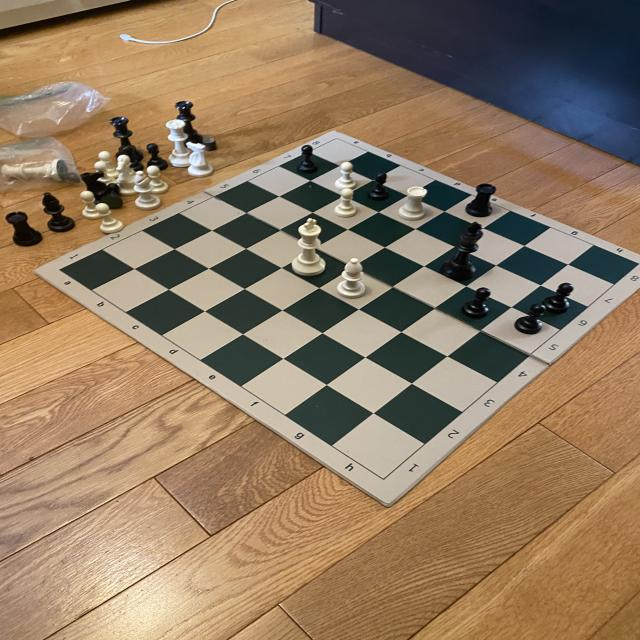Chessboard-Corners: (373, 472, 394, 482), (52, 266, 68, 278), (327, 135, 343, 145), (632, 258, 640, 268)
